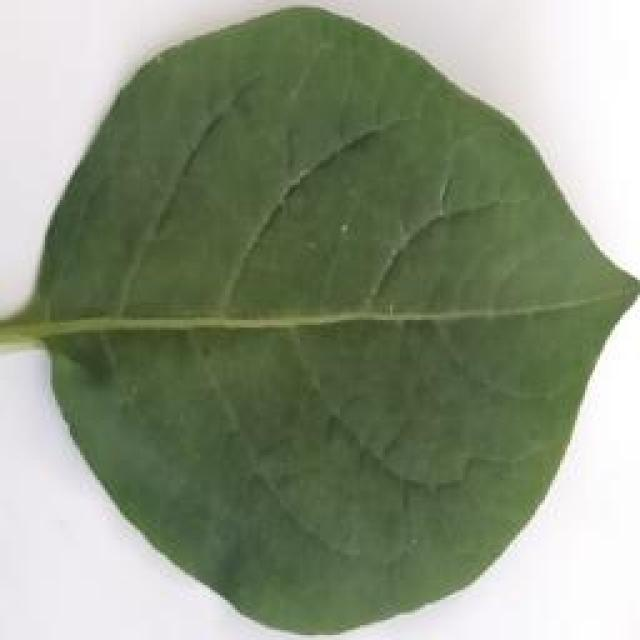Potato_Healthy: (7, 0, 620, 622)
